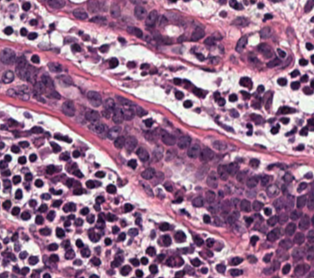nucleus: (16, 56, 26, 78), (89, 121, 107, 133), (87, 91, 101, 106), (160, 130, 175, 144), (1, 48, 14, 64), (258, 43, 272, 57), (187, 144, 200, 158), (62, 101, 74, 116), (146, 10, 157, 26), (177, 135, 190, 148), (200, 148, 213, 161), (140, 182, 153, 195), (267, 228, 280, 241), (41, 74, 53, 88), (132, 104, 146, 116), (106, 126, 120, 138), (136, 147, 148, 161), (112, 108, 123, 123), (217, 165, 228, 180), (116, 96, 132, 106), (207, 171, 217, 187), (134, 6, 146, 19), (191, 27, 203, 40), (85, 110, 98, 122), (266, 185, 279, 197), (226, 211, 239, 223), (73, 8, 87, 19), (17, 85, 28, 99), (125, 136, 136, 150), (141, 168, 155, 179), (220, 199, 231, 213), (236, 36, 246, 51), (24, 66, 34, 81), (122, 107, 134, 119), (246, 176, 258, 188), (259, 27, 272, 38), (2, 70, 13, 83), (239, 77, 252, 88), (227, 162, 238, 175), (128, 27, 142, 37), (87, 1, 99, 12), (104, 98, 115, 110), (114, 136, 125, 148), (273, 198, 284, 210), (48, 62, 61, 72), (34, 82, 44, 95), (90, 15, 106, 23), (54, 134, 70, 142), (266, 58, 280, 67), (58, 75, 72, 84), (174, 231, 185, 242), (48, 0, 63, 8), (110, 5, 120, 17), (232, 17, 247, 25), (240, 199, 250, 211), (265, 92, 272, 109), (229, 0, 242, 9), (213, 141, 226, 150), (153, 147, 162, 160), (46, 165, 59, 174), (192, 196, 203, 206), (205, 190, 214, 202), (260, 175, 270, 185), (252, 200, 262, 210), (267, 216, 277, 226), (89, 231, 99, 241), (250, 114, 261, 123), (236, 171, 245, 182), (50, 142, 60, 151), (204, 37, 215, 45), (193, 88, 204, 96), (101, 109, 110, 118), (127, 159, 136, 168), (106, 184, 115, 193), (159, 16, 167, 26), (49, 90, 59, 98), (159, 222, 169, 230), (162, 235, 170, 245), (31, 126, 42, 133), (109, 58, 117, 67), (241, 91, 250, 99), (144, 118, 152, 127), (249, 159, 258, 167), (164, 182, 172, 191), (2, 200, 10, 209), (123, 203, 132, 211), (21, 211, 30, 219), (106, 213, 115, 221), (35, 215, 43, 224), (194, 236, 202, 245), (7, 89, 17, 96), (39, 228, 49, 235), (22, 2, 30, 10), (277, 49, 285, 57), (175, 91, 183, 99), (12, 175, 20, 183), (65, 178, 73, 186), (96, 196, 104, 204), (56, 228, 64, 236), (250, 236, 258, 244), (277, 78, 286, 85), (8, 119, 17, 126), (60, 153, 69, 160), (73, 170, 82, 177), (86, 180, 95, 187), (15, 189, 22, 198), (47, 211, 54, 220), (128, 228, 137, 235), (222, 125, 232, 131), (73, 188, 83, 194), (4, 27, 12, 34), (72, 44, 80, 51), (99, 45, 107, 52), (196, 53, 204, 60), (31, 55, 38, 63), (183, 100, 191, 107), (230, 109, 238, 116), (271, 125, 278, 133), (11, 145, 19, 152), (18, 156, 25, 164), (35, 179, 42, 187), (3, 180, 10, 188), (68, 202, 75, 210), (38, 204, 46, 211), (80, 207, 88, 214), (75, 218, 82, 226), (118, 232, 125, 240), (206, 238, 213, 246), (50, 189, 61, 194), (249, 56, 258, 62), (209, 57, 218, 63), (19, 141, 28, 147), (95, 171, 104, 177), (41, 193, 50, 199), (229, 94, 236, 101), (217, 98, 224, 105), (29, 154, 36, 161), (25, 173, 32, 180), (29, 199, 36, 206), (12, 207, 19, 214), (264, 207, 271, 214), (87, 215, 94, 222), (203, 215, 210, 222), (245, 217, 252, 224), (28, 33, 36, 39), (252, 101, 260, 107), (53, 200, 61, 206), (208, 206, 216, 212), (76, 239, 82, 247), (162, 38, 171, 43), (20, 28, 26, 35), (173, 78, 180, 84), (257, 85, 263, 92), (4, 155, 11, 161), (63, 204, 69, 211), (96, 222, 103, 228), (112, 226, 118, 233), (11, 233, 17, 240), (264, 14, 272, 19), (127, 62, 135, 67), (214, 92, 219, 100), (2, 170, 10, 175), (173, 197, 181, 202), (98, 214, 103, 222), (73, 151, 79, 157), (64, 220, 70, 226), (104, 238, 110, 244), (140, 63, 147, 68), (258, 2, 263, 8), (220, 11, 226, 16), (94, 204, 99, 210), (68, 214, 74, 219), (121, 220, 126, 226), (1, 161, 5, 168), (178, 36, 183, 41), (30, 20, 36, 24), (233, 199, 237, 205), (136, 218, 140, 224), (247, 124, 251, 129), (247, 130, 251, 135), (0, 142, 3, 148), (119, 38, 124, 41), (151, 232, 154, 237), (50, 24, 53, 28), (196, 108, 199, 112)
